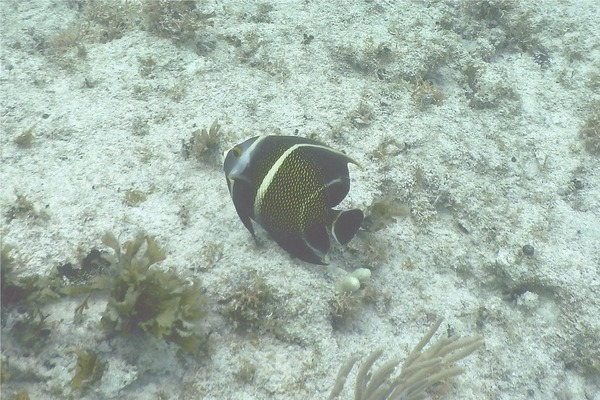Pomacanthus_paru: (215, 113, 383, 282)
